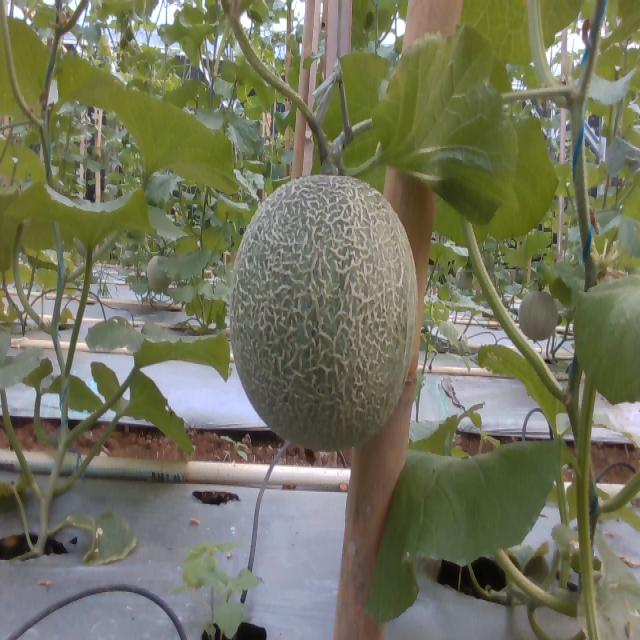melon: (232, 176, 416, 450)
